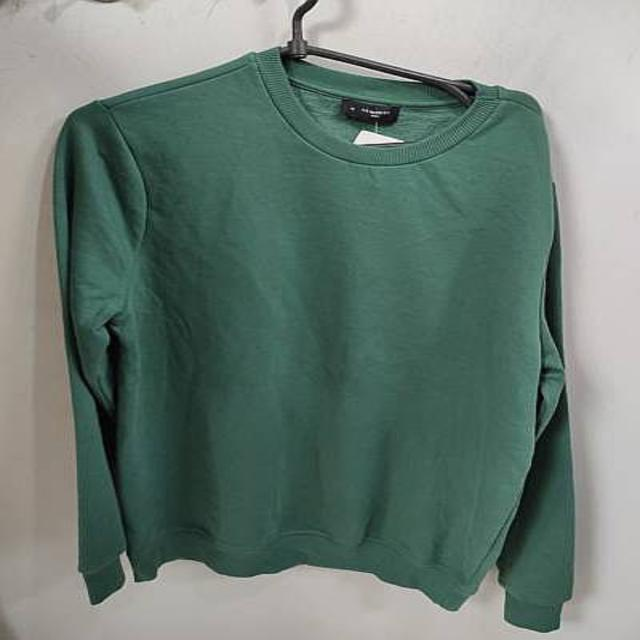SHIRT: (35, 42, 623, 634)
